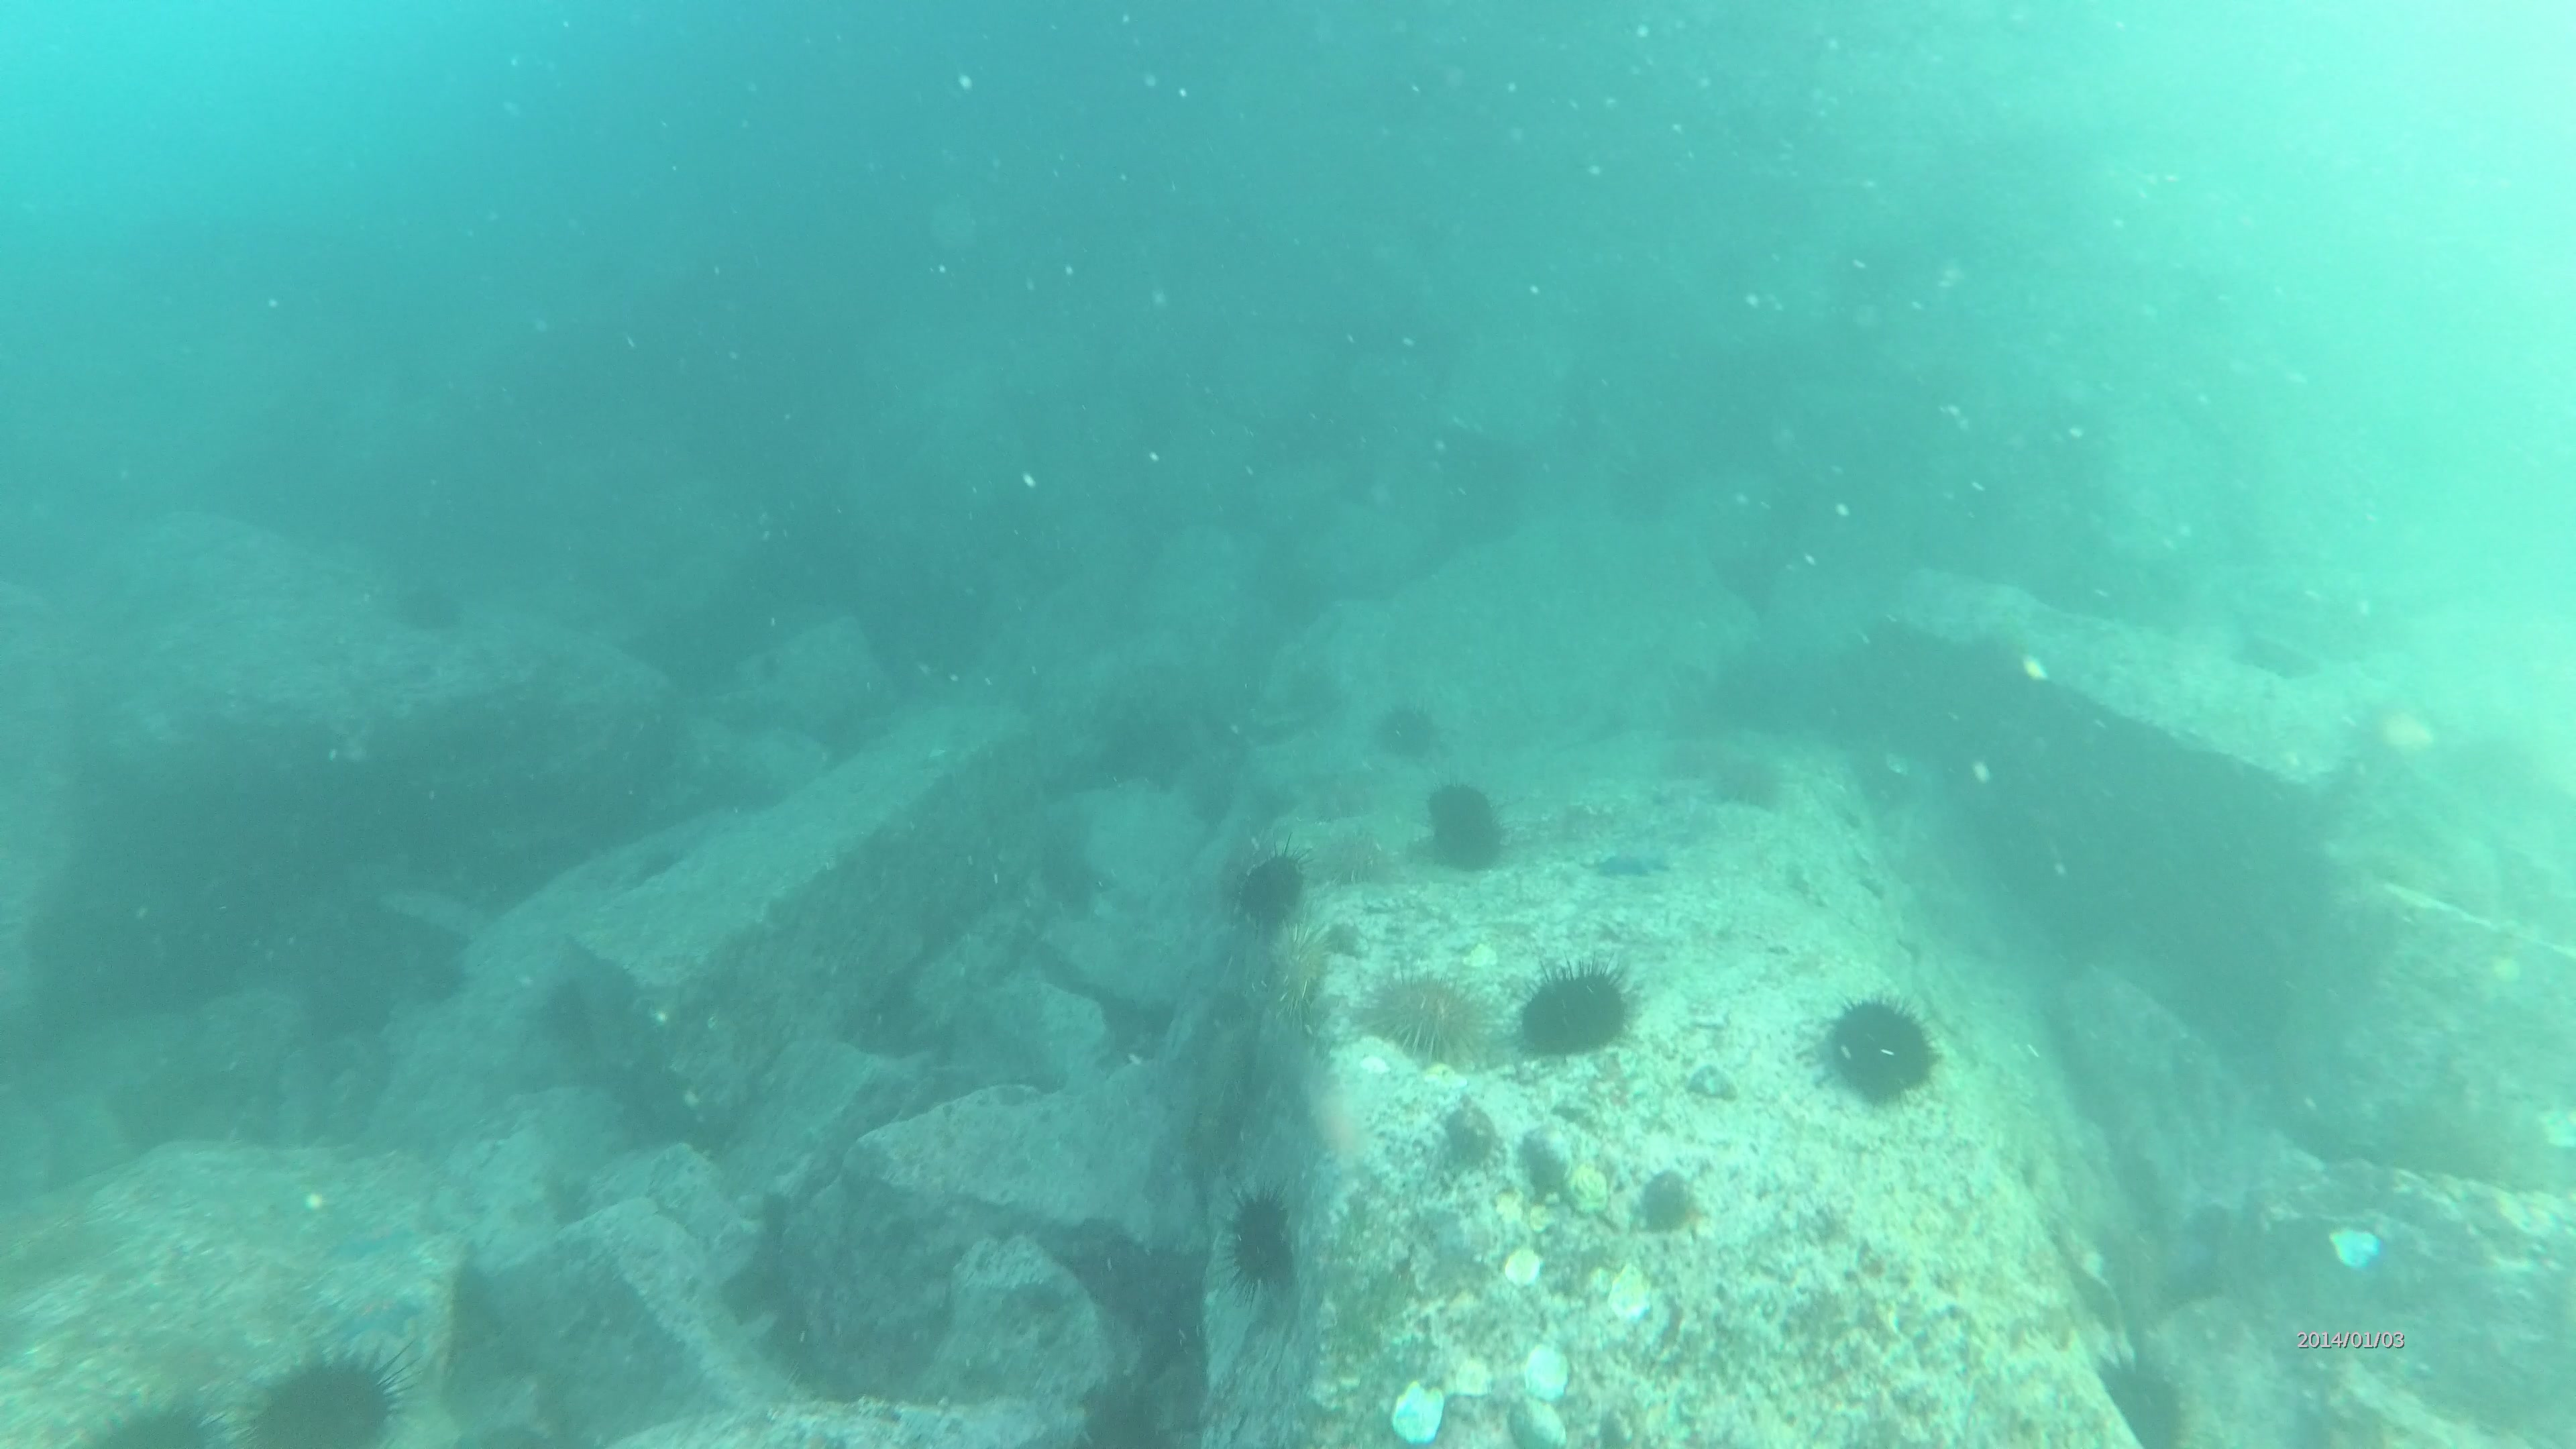echinus: (234, 1336, 407, 1449), (1366, 952, 1499, 1065), (1499, 957, 1638, 1060), (1819, 994, 1943, 1106), (1214, 1171, 1313, 1292), (1415, 775, 1518, 870), (1247, 934, 1332, 1047), (1235, 833, 1309, 931), (1302, 828, 1394, 893), (1366, 699, 1454, 763), (1713, 743, 1787, 816), (389, 570, 472, 633)
starfish: (313, 1279, 441, 1353), (1598, 832, 1677, 888)
